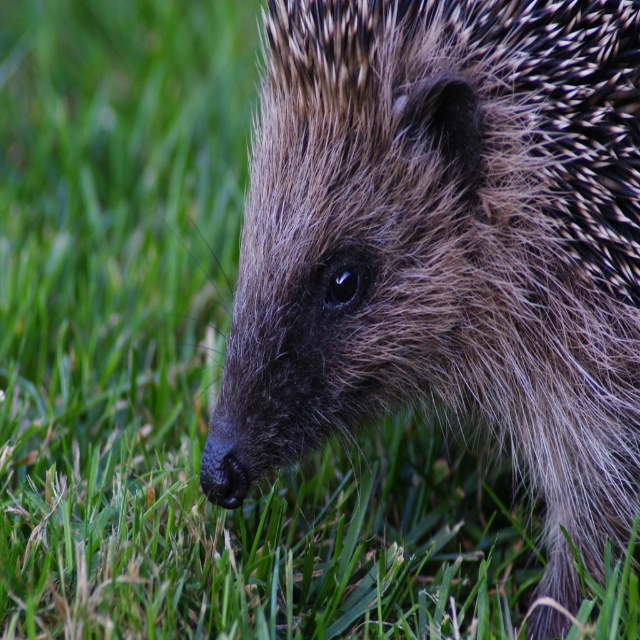Hedgehog: (151, 0, 640, 640)
